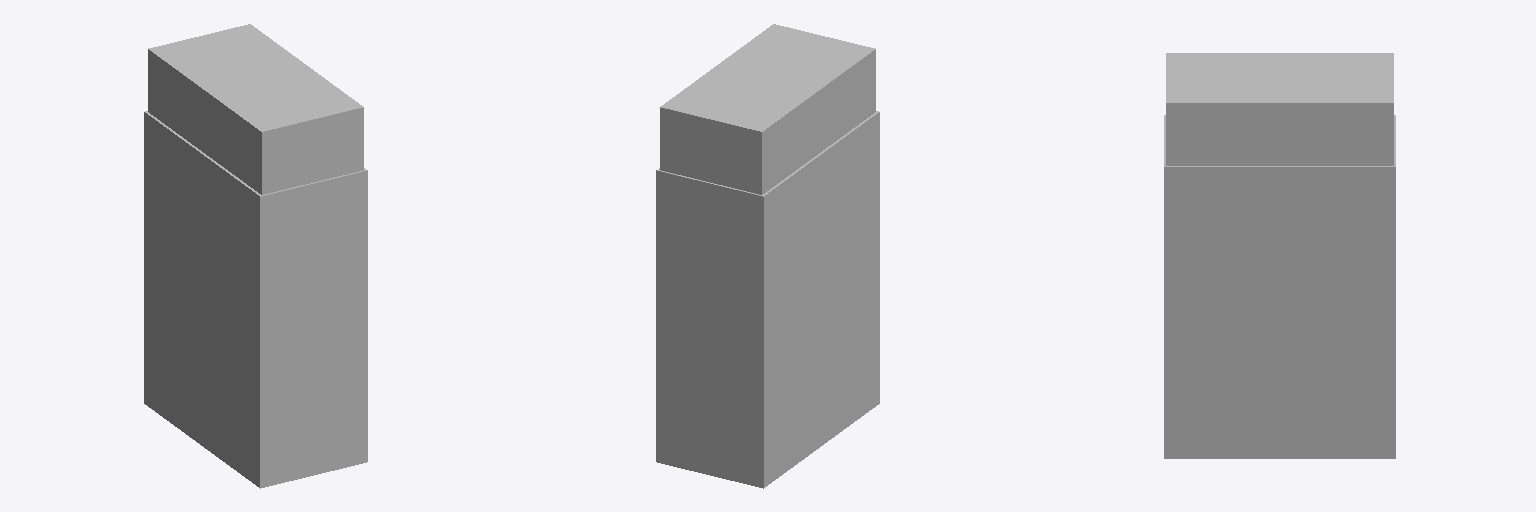
File: eraser.obj
3 views of the same model, side by side, from view 1: azimuth 30°, elevation 25°; view 2: azimuth 150°, elevation 25°; view 3: azimuth 270°, elevation 25° (orthographic).
Parts seen in each view (by area): view 1: eraser.001; view 2: eraser.001; view 3: eraser.001.
Boxes of the visible parts, x1=… form: eraser.001: x1=144, y1=24, x2=367, y2=488; eraser.001: x1=656, y1=24, x2=879, y2=488; eraser.001: x1=1164, y1=53, x2=1395, y2=458.
Size of the model in its own units: 0.063 by 0.1995 by 0.1178.